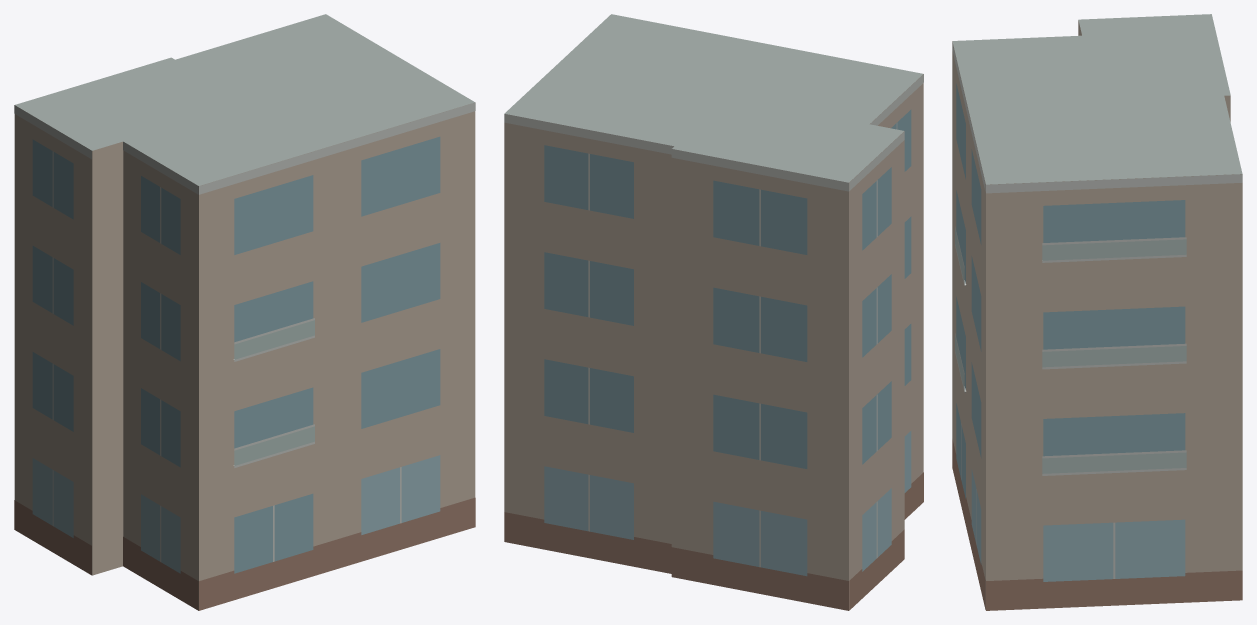
The model's file is survey-upis-32959126.glb.
3 renders of one model, left to right at view 1: azimuth 30°, elevation 25°; view 2: azimuth 150°, elevation 25°; view 3: azimuth 270°, elevation 25°, orthographic.
Parts seen in each view (by area): view 1: survey-upis-32959126.tmp; view 2: survey-upis-32959126.tmp; view 3: survey-upis-32959126.tmp.
Boxes of the visible parts, x1=… form: survey-upis-32959126.tmp: x1=14, y1=14, x2=475, y2=610; survey-upis-32959126.tmp: x1=504, y1=14, x2=923, y2=610; survey-upis-32959126.tmp: x1=952, y1=14, x2=1242, y2=610.
Size of the model in its own units: 10.14 by 11.8 by 7.29.
